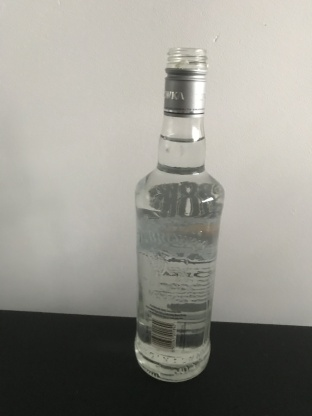nakretka: (162, 44, 209, 118)
